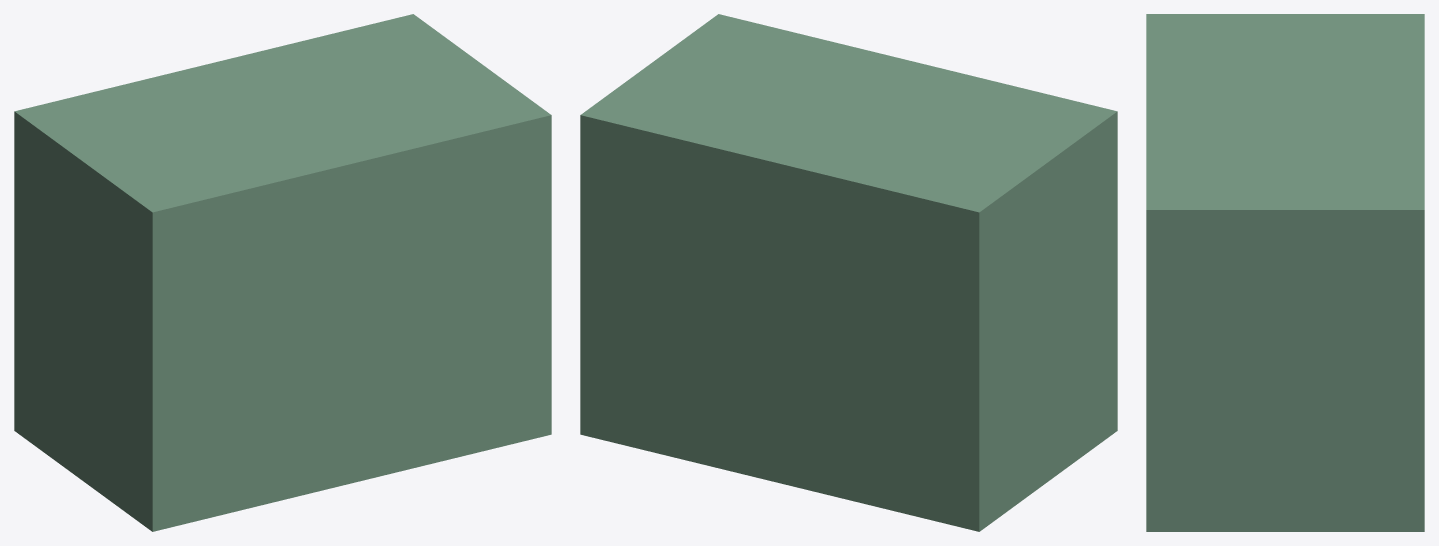
File: dumpster.glb
3 renders of one model, left to right at view 1: azimuth 30°, elevation 25°; view 2: azimuth 150°, elevation 25°; view 3: azimuth 270°, elevation 25°, orthographic.
Visible parts, largest first — view 1: dumpster, dumpster_lid; view 2: dumpster, dumpster_lid; view 3: dumpster, dumpster_lid.
Boxes of the visible parts, x1=… form: dumpster: x1=14, y1=138, x2=551, y2=531; dumpster_lid: x1=14, y1=14, x2=551, y2=244; dumpster: x1=580, y1=138, x2=1117, y2=531; dumpster_lid: x1=580, y1=14, x2=1117, y2=245; dumpster: x1=1146, y1=237, x2=1424, y2=531; dumpster_lid: x1=1146, y1=14, x2=1424, y2=243.
Size of the model in its own units: 2 by 1.53 by 1.2.
